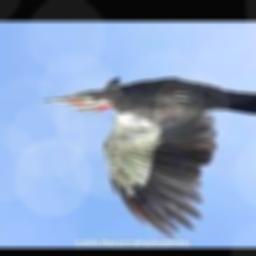Woodpecker: (41, 79, 256, 238)
